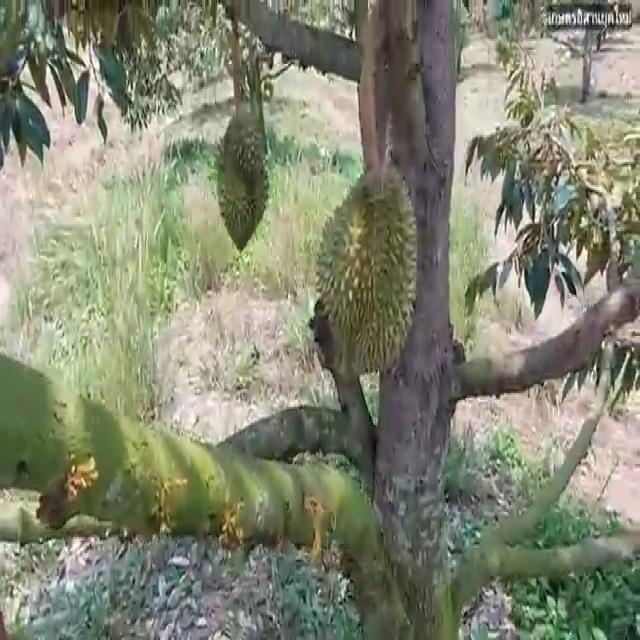durian: (306, 153, 422, 386), (212, 102, 274, 256)
